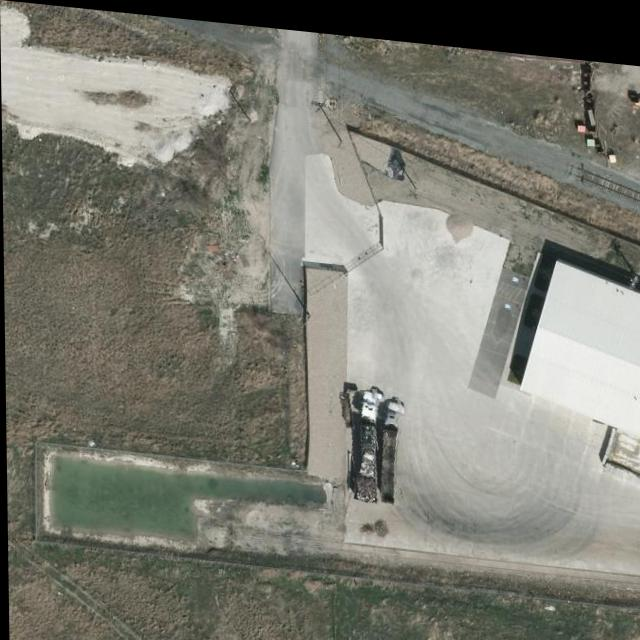vehicle: (343, 379, 394, 501), (369, 389, 410, 500), (360, 418, 378, 445), (353, 466, 369, 495), (359, 442, 372, 470)
